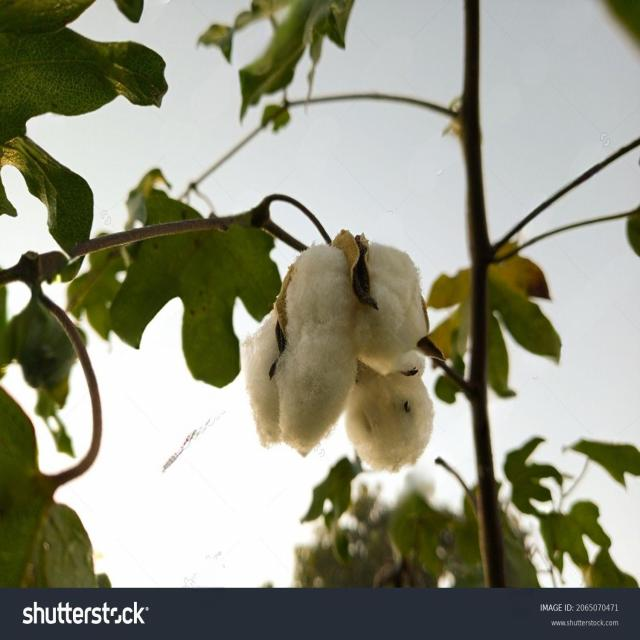Leaf: (231, 214, 445, 493)
